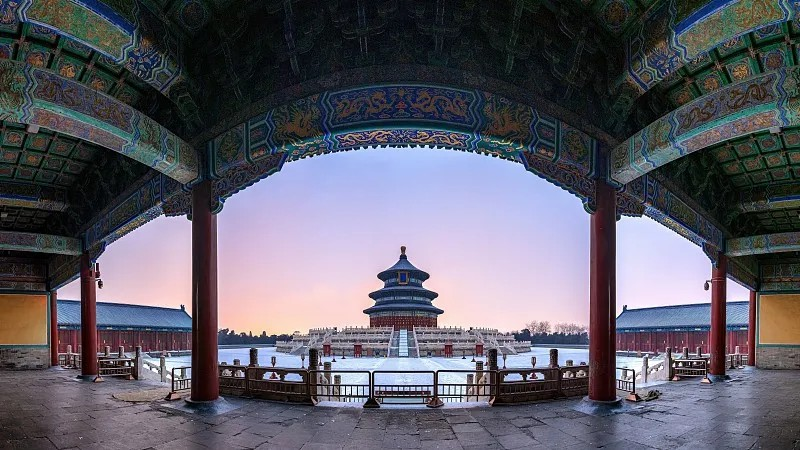Heaven: (363, 245, 444, 329)
